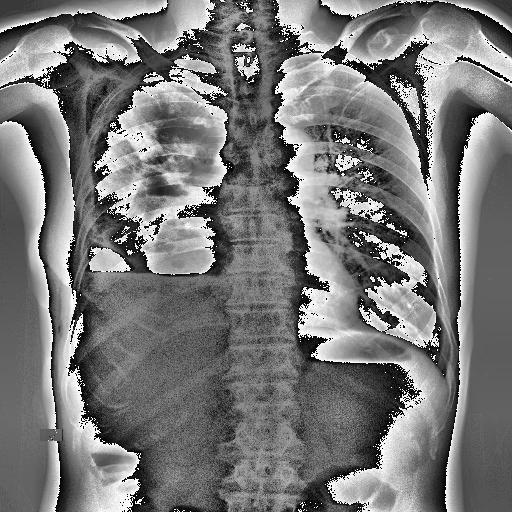10- Pleural effusion: (84, 188, 217, 302), (85, 240, 215, 344), (78, 270, 230, 322)
11- Pleural thickening: (122, 54, 222, 83), (98, 70, 144, 132)
12- Pneumothorax: (147, 229, 214, 273)
13- Pulmonary fibrosis: (100, 75, 218, 195)
4- Consolidation: (78, 89, 229, 273), (117, 116, 201, 186), (118, 114, 202, 178)
7- Lung Opacity: (78, 89, 229, 273), (80, 169, 224, 251)
9- Other lesion: (142, 228, 214, 273), (85, 242, 132, 272)
